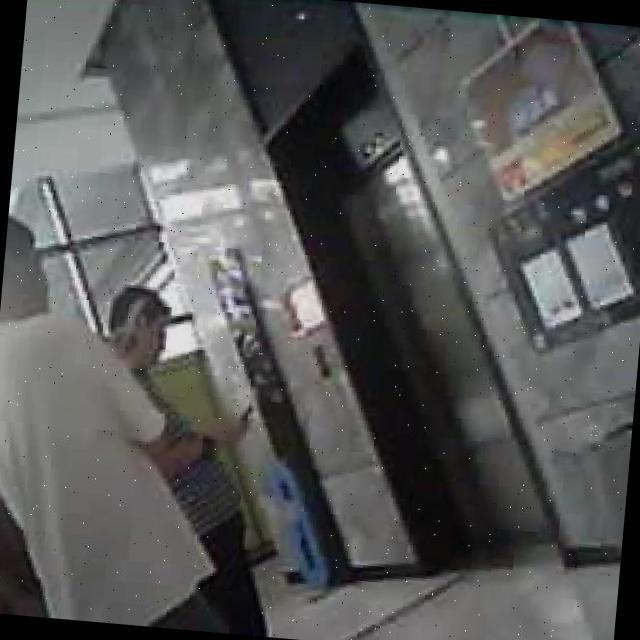person: (0, 212, 269, 633), (67, 283, 302, 636)
